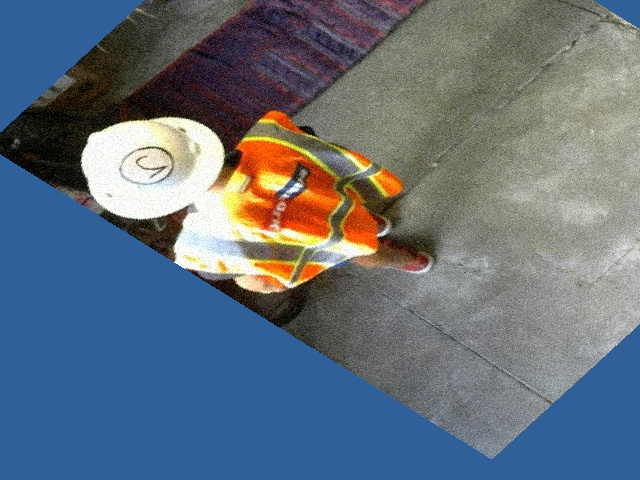two: (105, 136, 184, 193)
